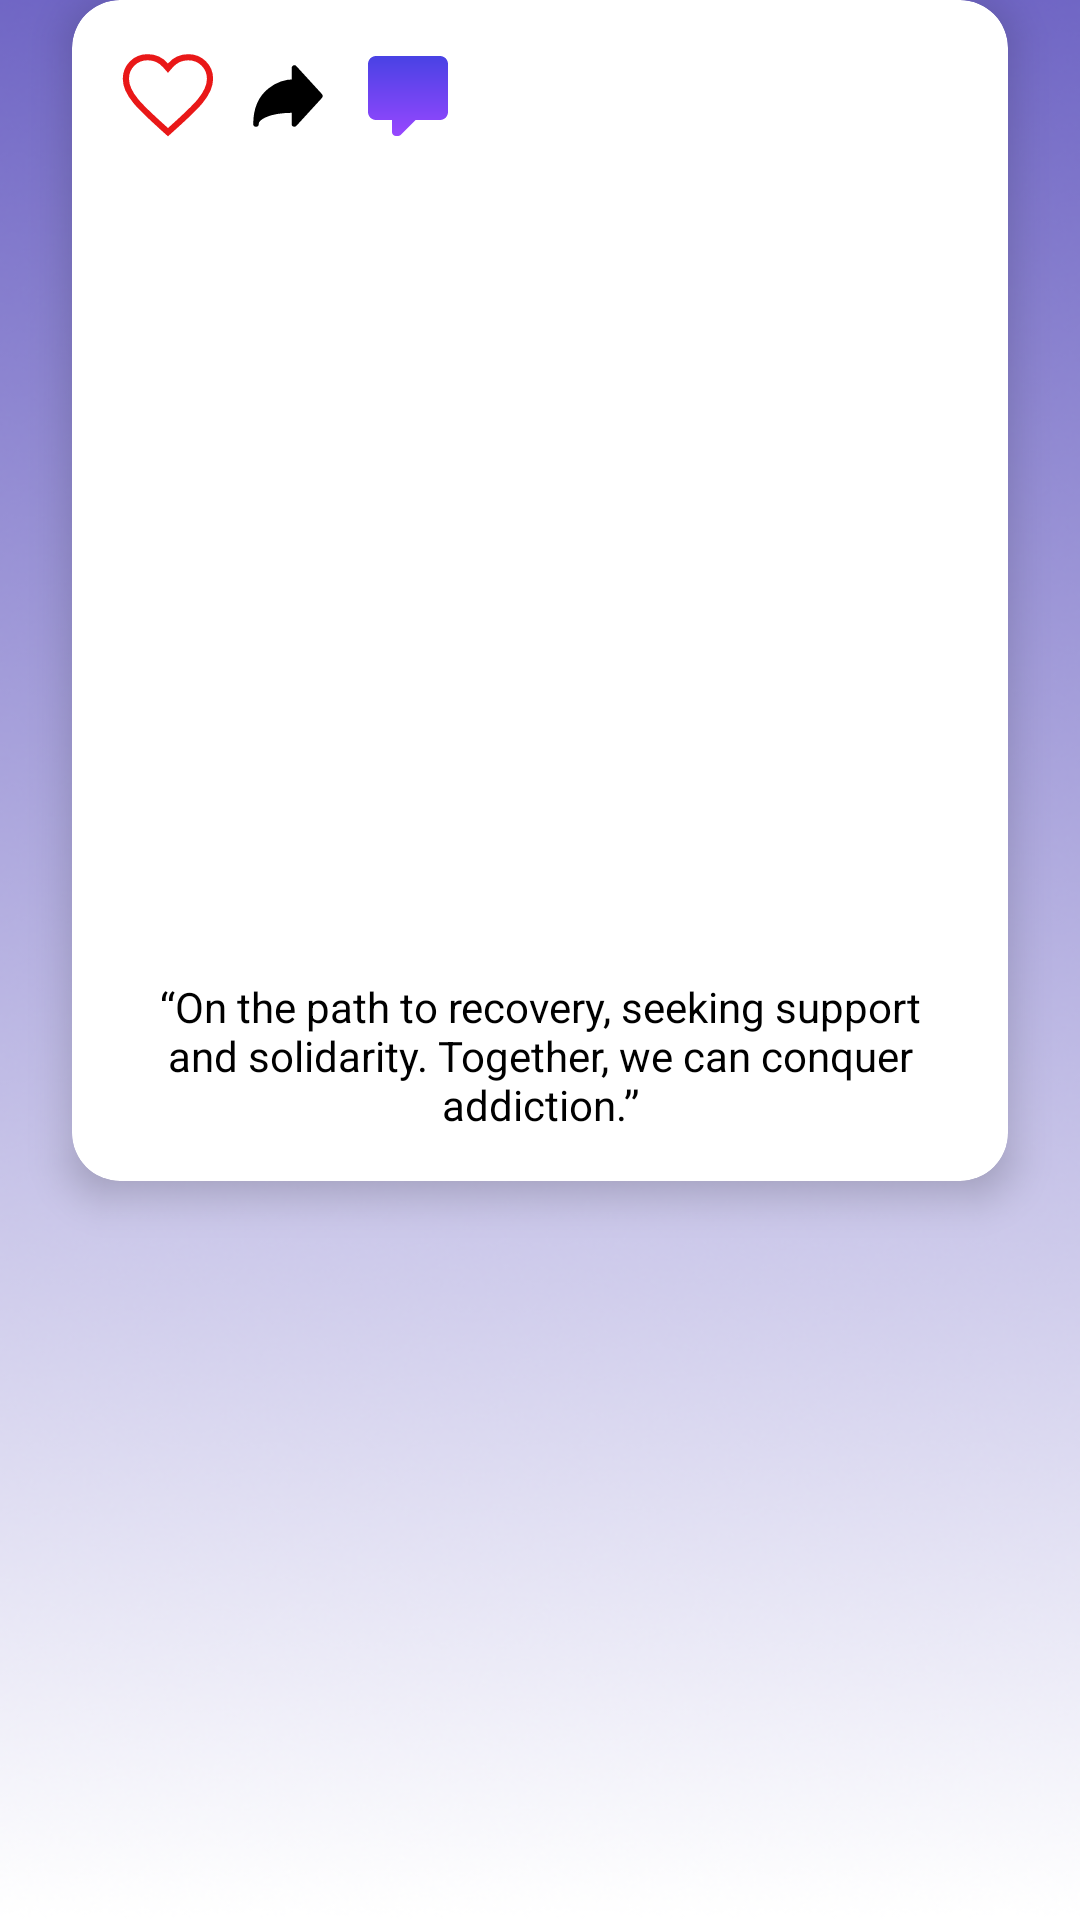

Icon click points for this 1080 x 1920 phone screenshot, format (x,y):
comment: (408,96)
heart hollow: (167,95)
share: (288,96)
